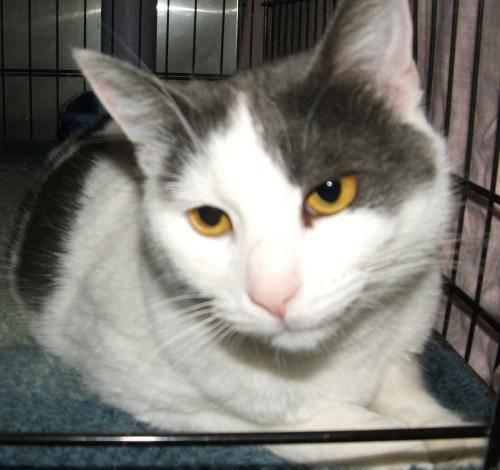cat: (11, 0, 461, 431)
